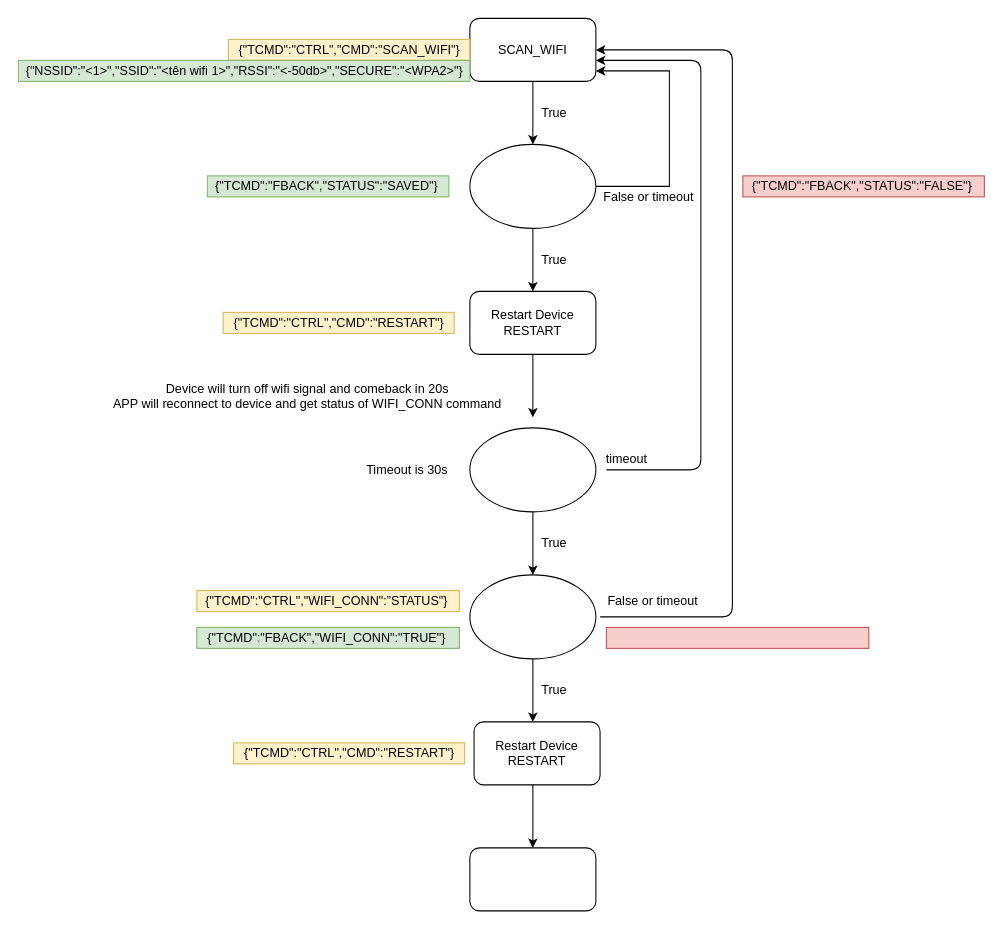
The diagram is 1003 pixels wide and 929 high, and some of its shapes have lost their labels. The centre of each missing label's shape, as x and y in pixels:
Complete: point (532, 879)
Feedback: SAVED: point (532, 185)
Get Status connect STATUS: point (532, 616)
WAITTING: point (532, 469)
{"TCMD":"FBACK","WIFI_CONN":"FALSE"}: point (737, 637)
